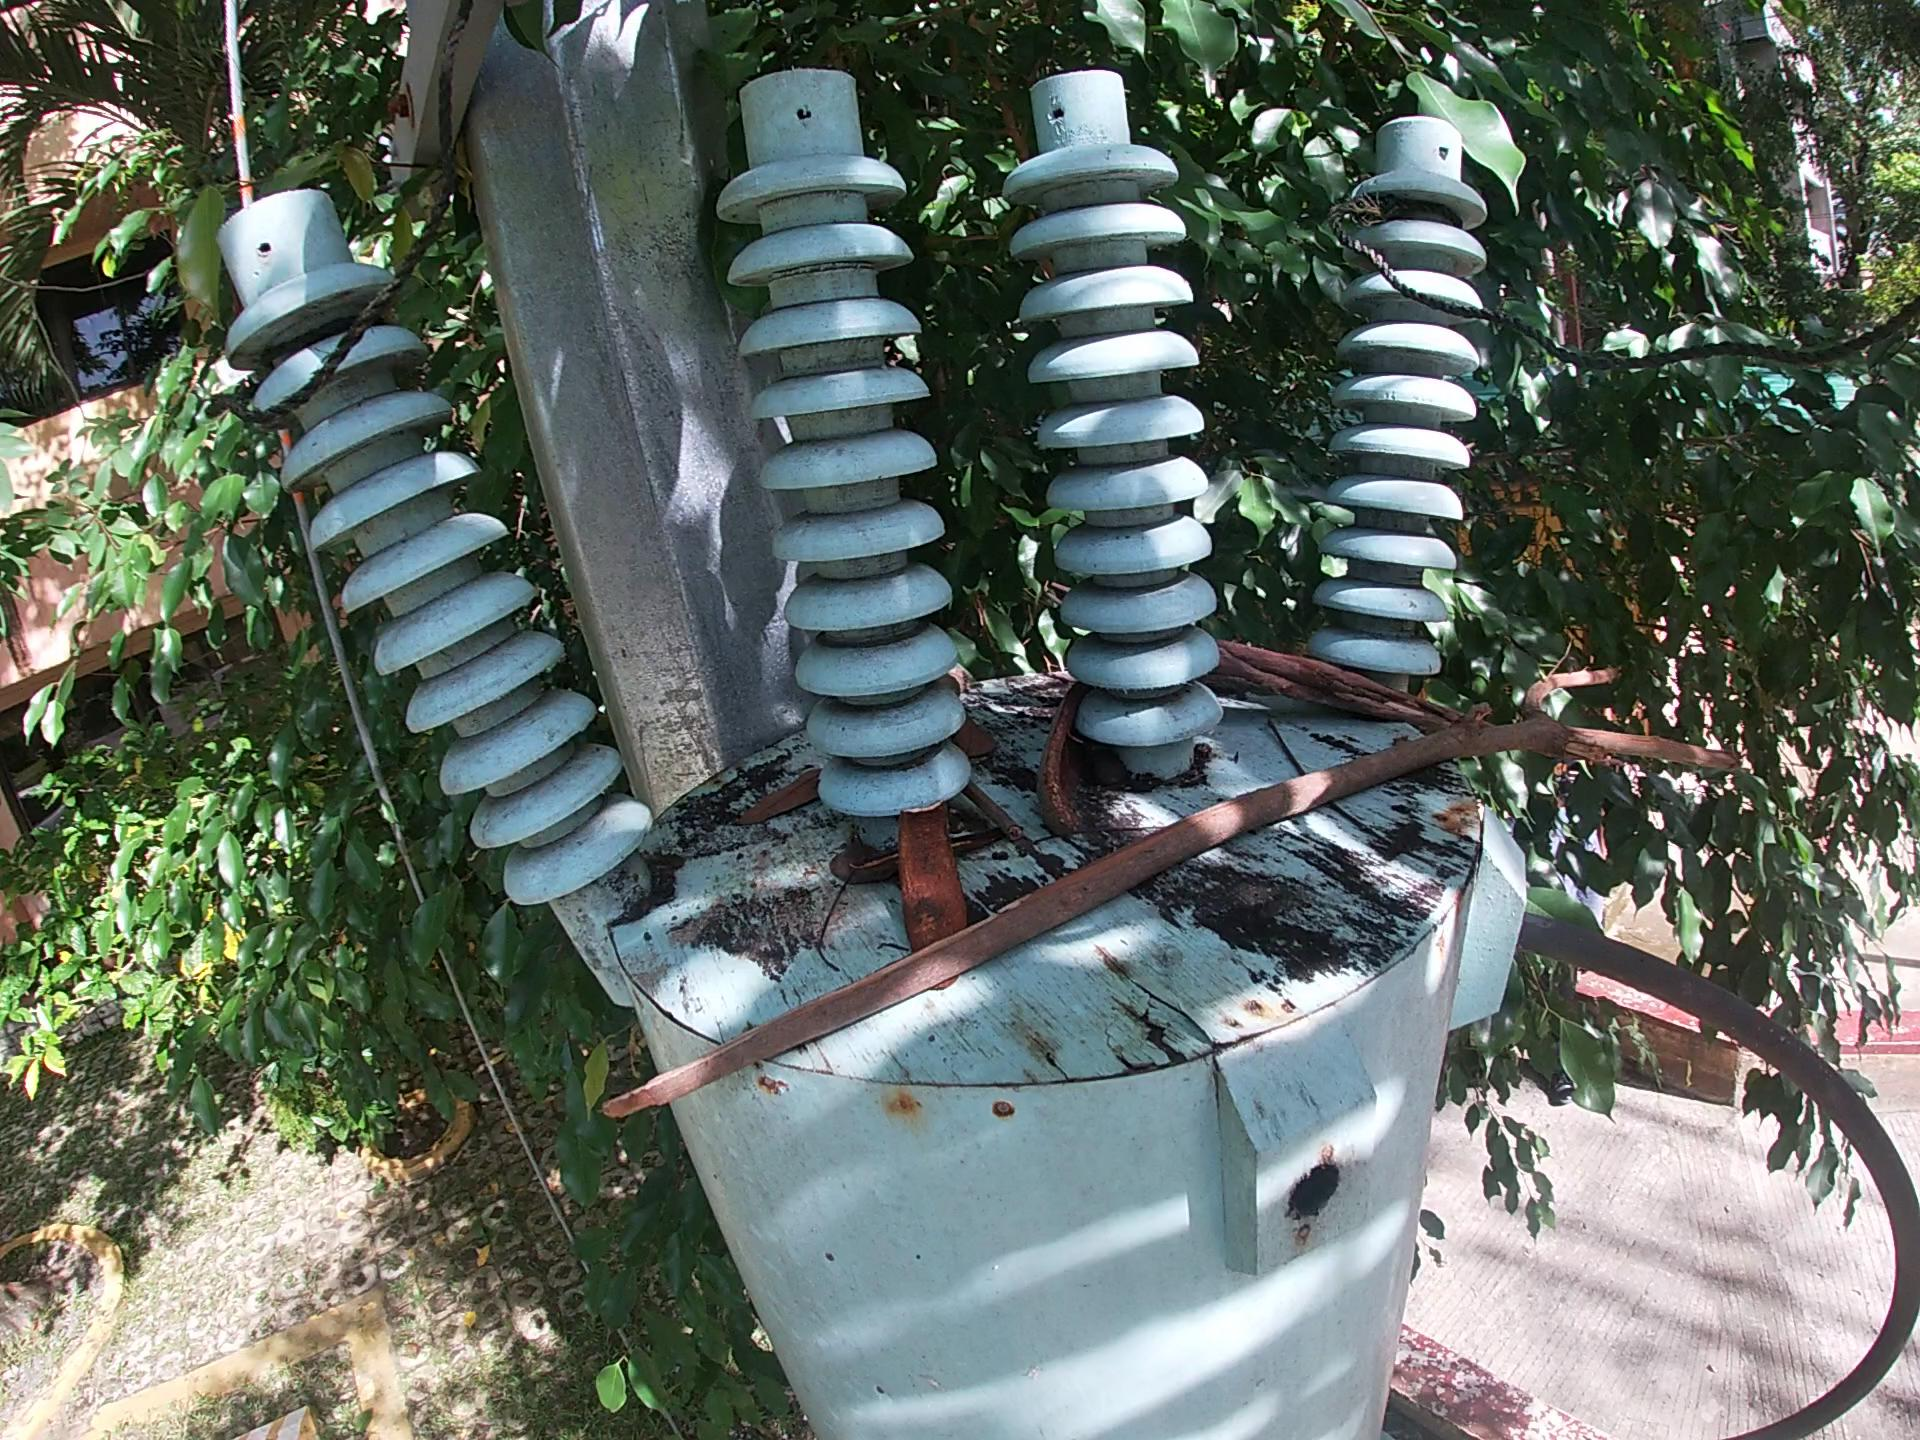leaf: (723, 762, 831, 841), (952, 712, 999, 765)
mahogany fruit: (887, 796, 969, 957), (1031, 673, 1107, 843)
tree branch: (593, 653, 1748, 1131), (1206, 635, 1578, 755), (960, 777, 1023, 838)
